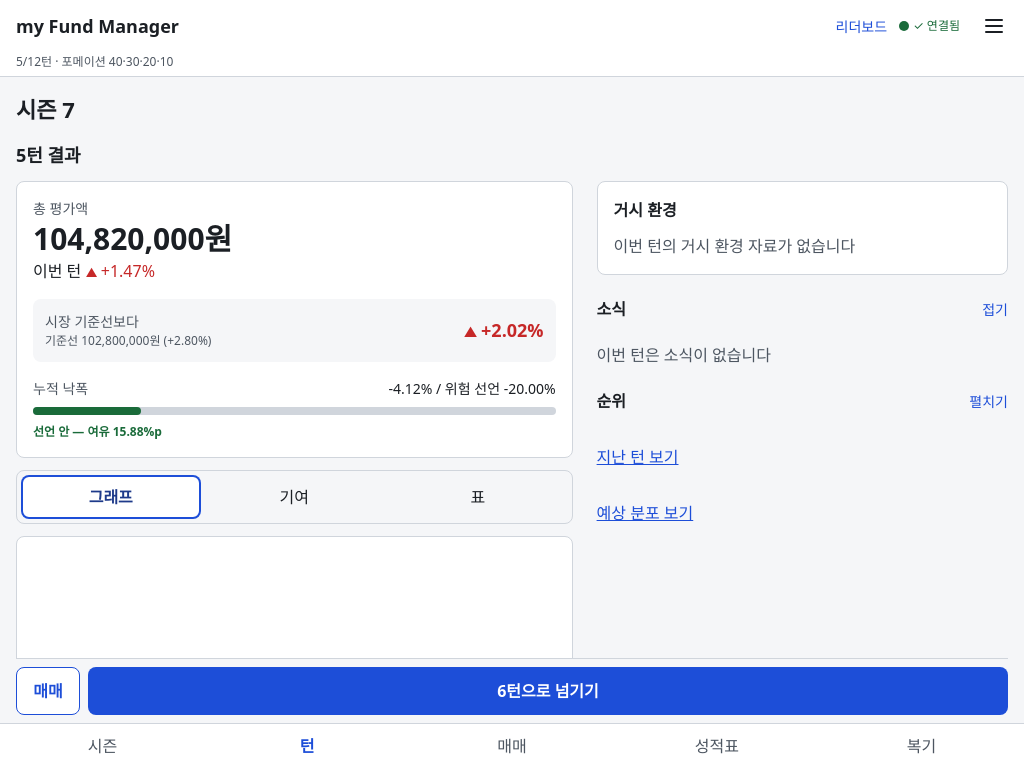
Test: abandon button (A1) › closes the menu when the item is pressed
Expected: the text "5/12턴 · 포메이션 40·30·20·10" is shown, [16,53,173,70]
Click the button named "메뉴".
click(994, 26)  # box [972,4,1016,48]
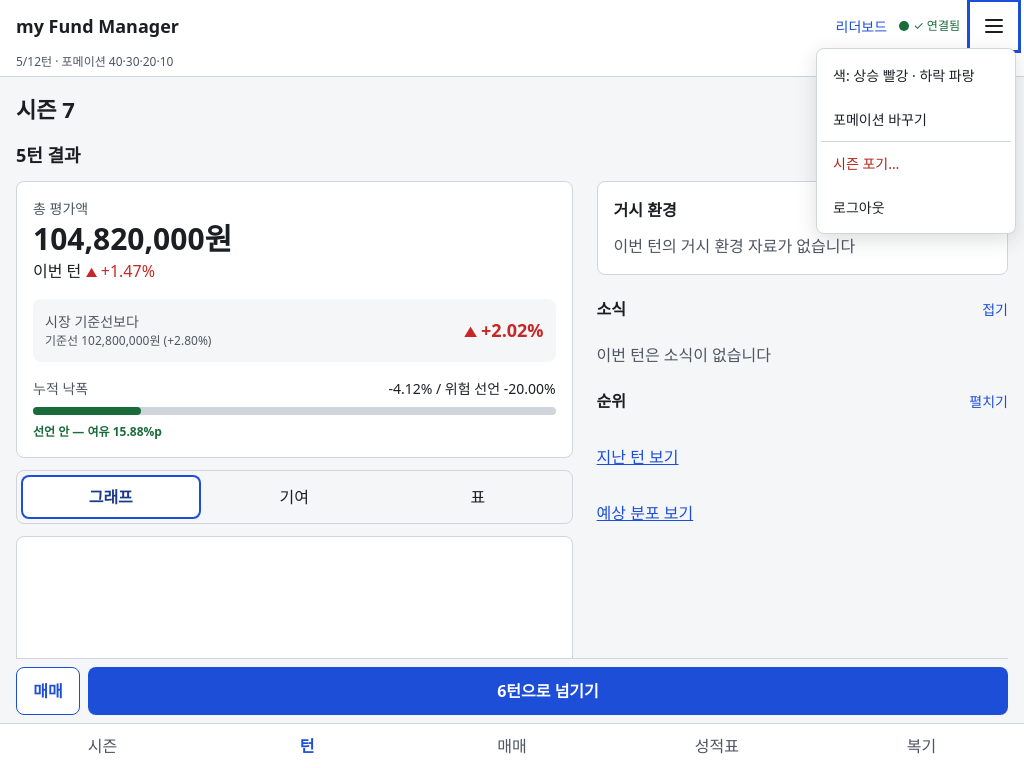
Click the button "시즌 포기…".
click(916, 163)  # box [821,141,1011,185]
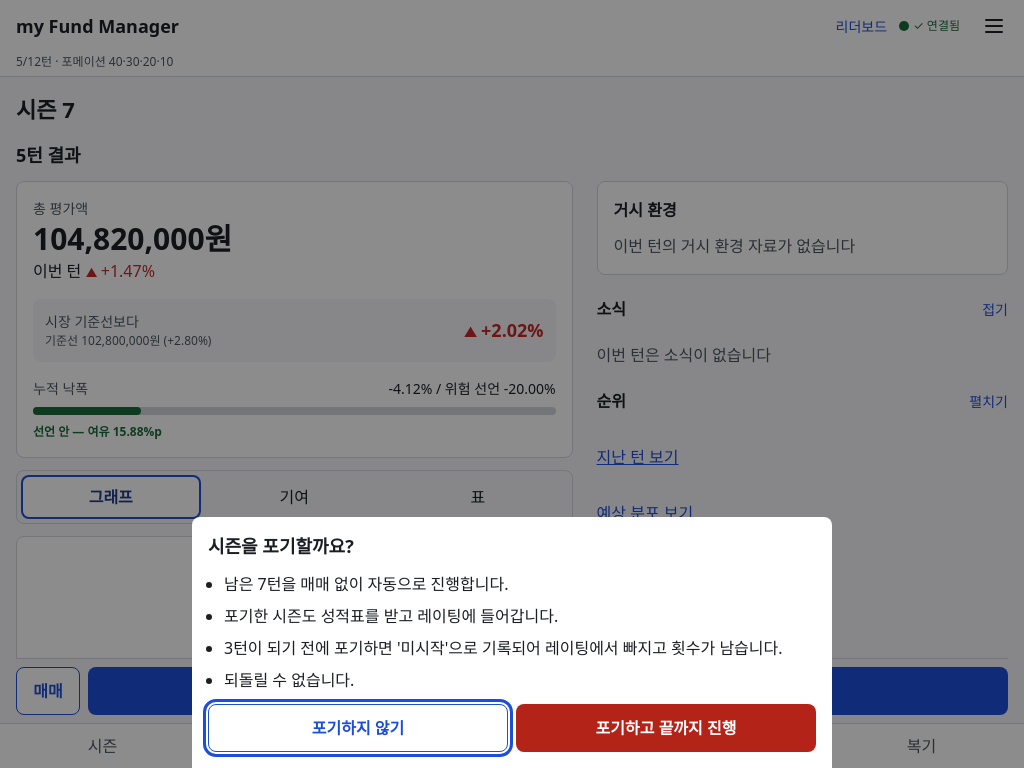
Result: the button named "메뉴" is collapsed at [972,4,1016,48]
